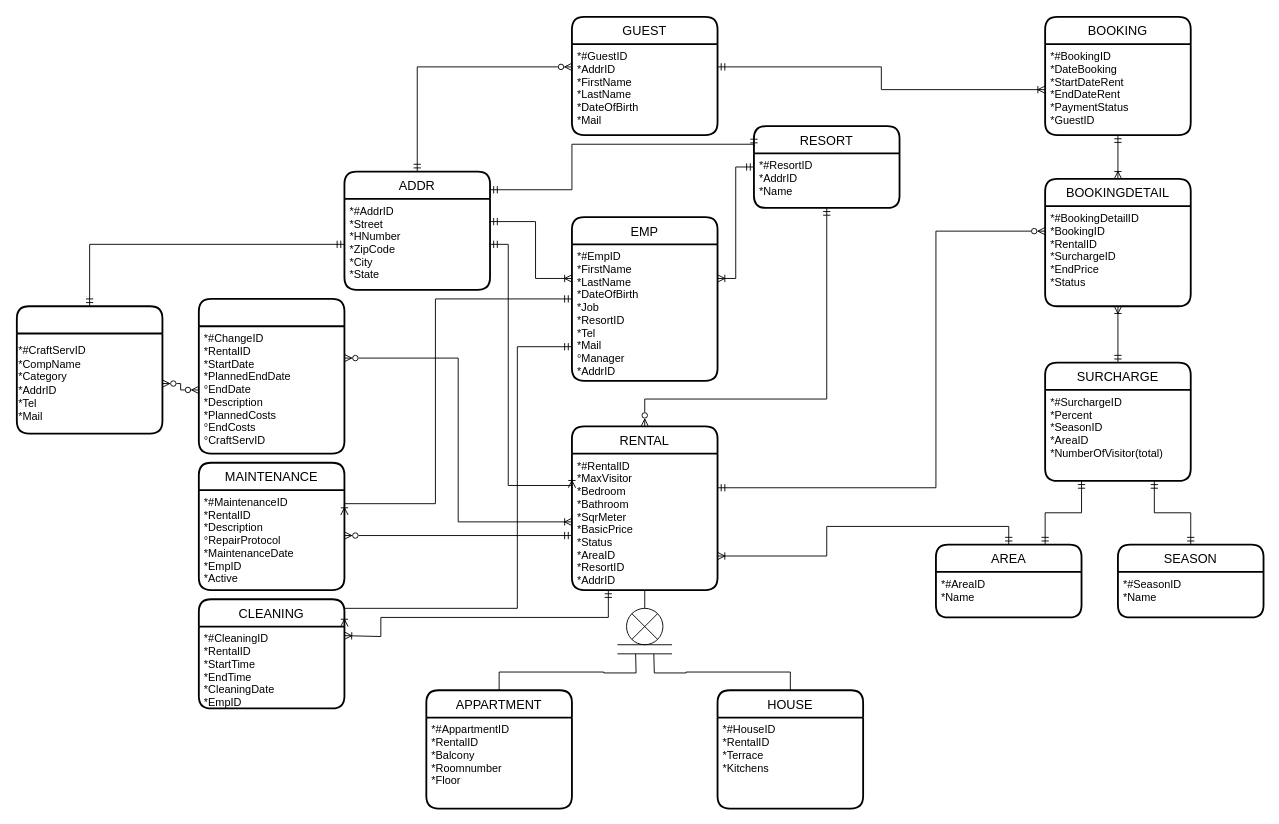
This 1279x824 diagram has some shape labels left out. The box of each missing label's shape, as (x1, y1, x2, y2) in pixels:
CRAFTSERVICE: (15, 305, 163, 434)
STRUCCHANGE: (197, 298, 345, 454)
